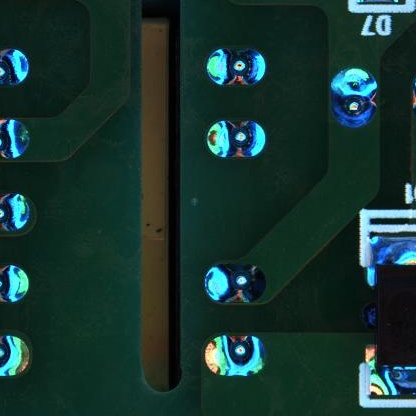spot: (331, 66, 378, 128), (202, 335, 269, 376), (202, 264, 268, 302), (206, 118, 266, 159), (207, 49, 265, 86), (1, 191, 29, 233), (1, 264, 29, 305), (1, 334, 28, 376), (1, 118, 28, 159), (1, 48, 27, 87)
